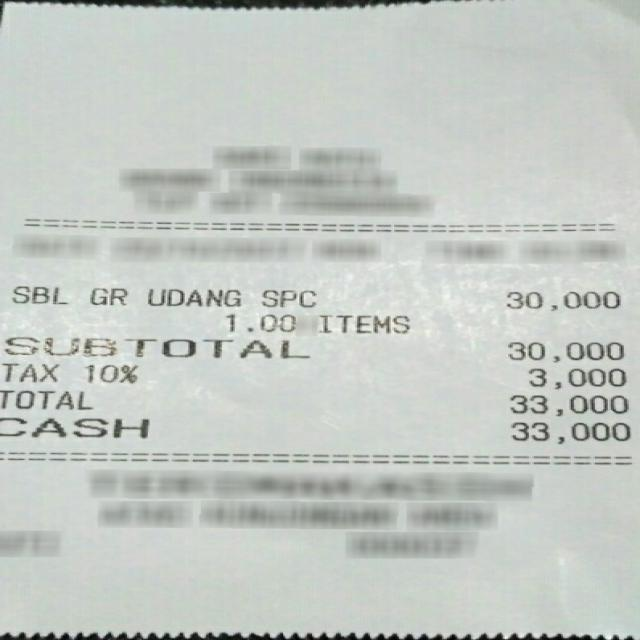text: (0, 334, 309, 358), (0, 416, 147, 441), (0, 385, 94, 413), (508, 393, 626, 414), (506, 339, 620, 360), (510, 421, 627, 441), (505, 289, 616, 309), (526, 367, 624, 387), (309, 314, 407, 332), (146, 287, 238, 306), (225, 313, 296, 332), (0, 362, 55, 382), (10, 284, 66, 303), (84, 362, 135, 382), (259, 288, 313, 306), (87, 288, 125, 305)
